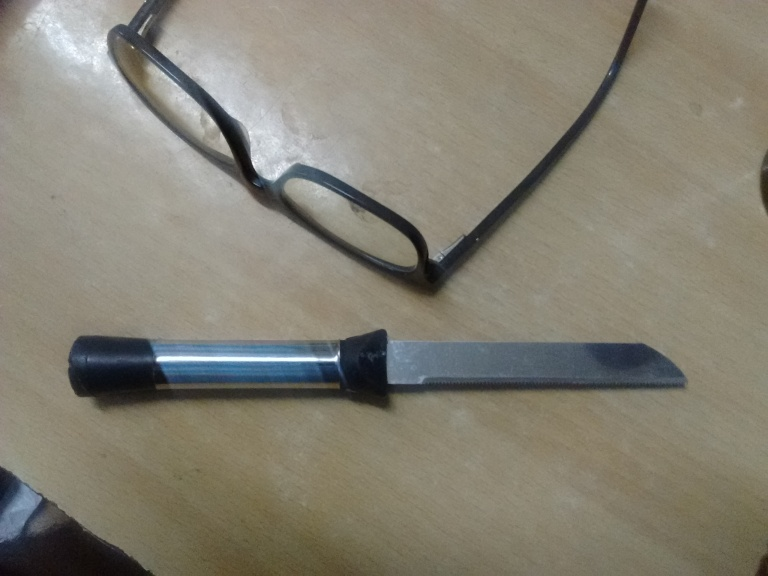knife: (61, 329, 685, 406)
